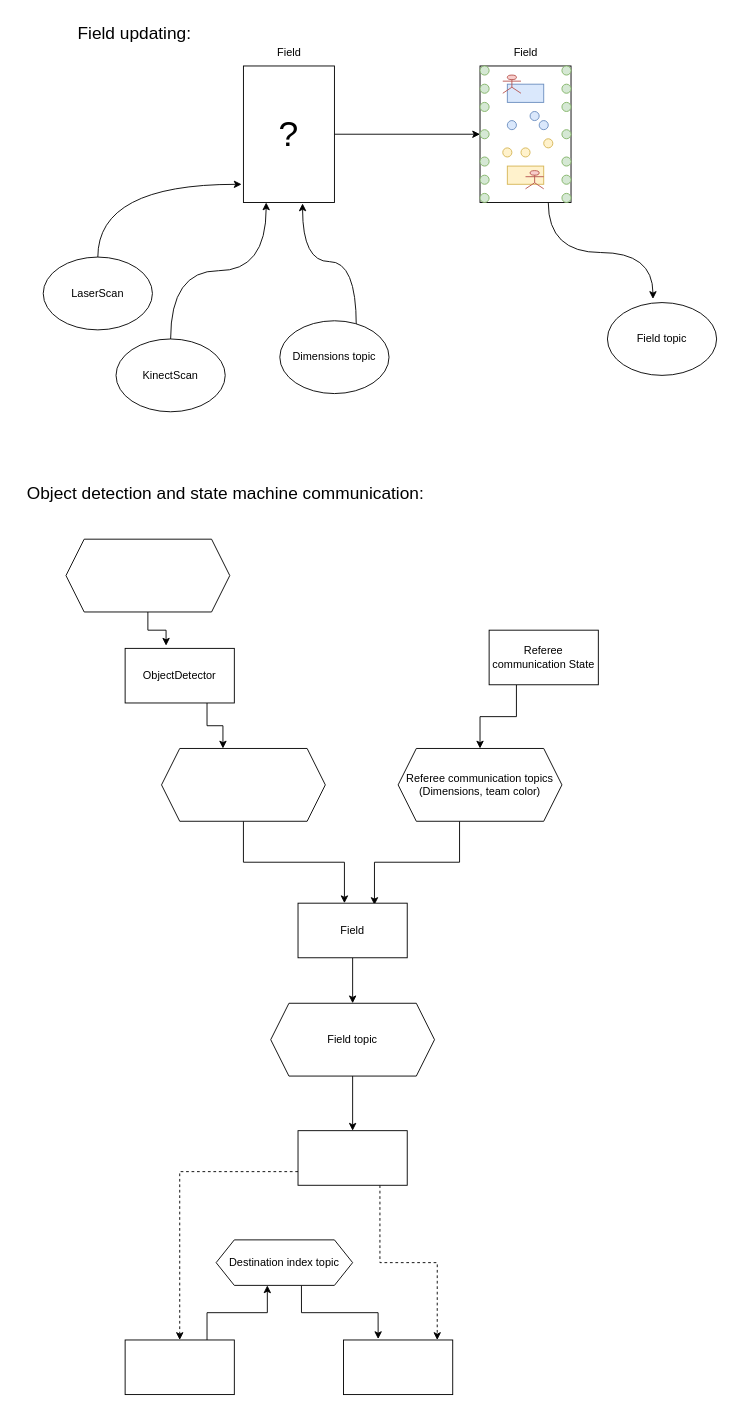
Image size: 733x1411. Some labels were removed from this diagram. The shapes that lost their labels are listed below. From the top down, each one's centre as x and y in pixels, then its label:
point 147,575: Scan topics (LaserScan, Image)
point 243,784: Object detector topics (FieldComponents)
point 352,1157: State machine logic
point 179,1367: Find Destination state
point 398,1367: Move to destination state
